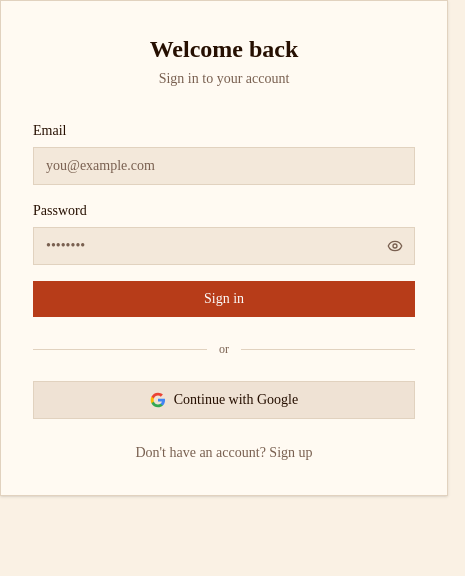
LoginPage › shows API error message when login fails
This screenshot has width=465, height=576.
Type "bad@example.com" into the field labelled "Email" at (224, 166), box left=33, top=147, right=415, bottom=185
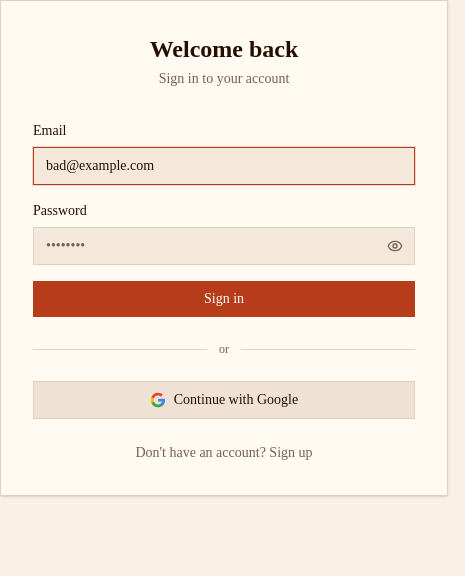
Type "wrongpass" into the password field labelled "Password" at (224, 246), box left=33, top=227, right=415, bottom=265
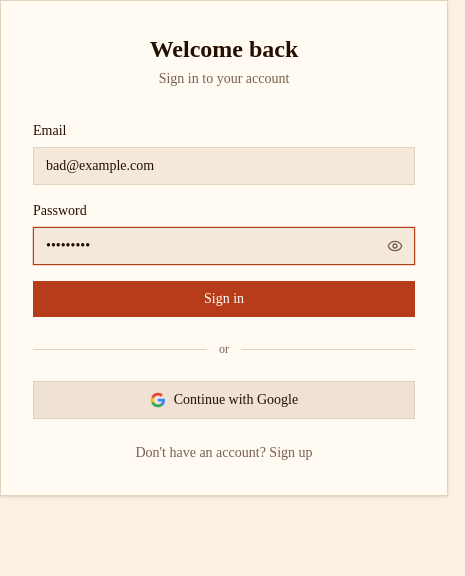
Click the button "Sign in" at (224, 299), box left=33, top=281, right=415, bottom=317
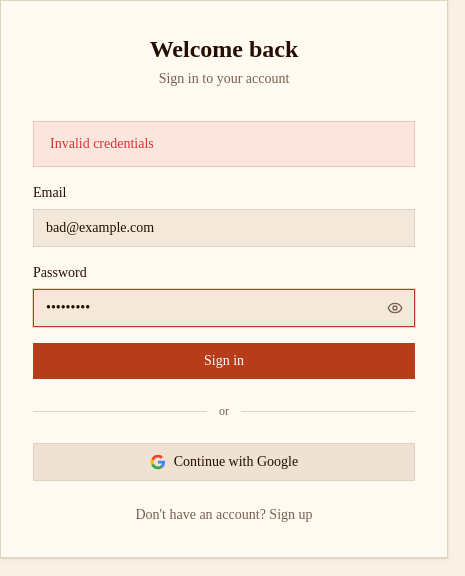
Now the message reads "Invalid credentials", box left=50, top=136, right=154, bottom=151
